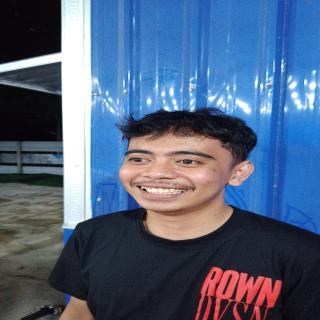Senang: (115, 123, 230, 216)
